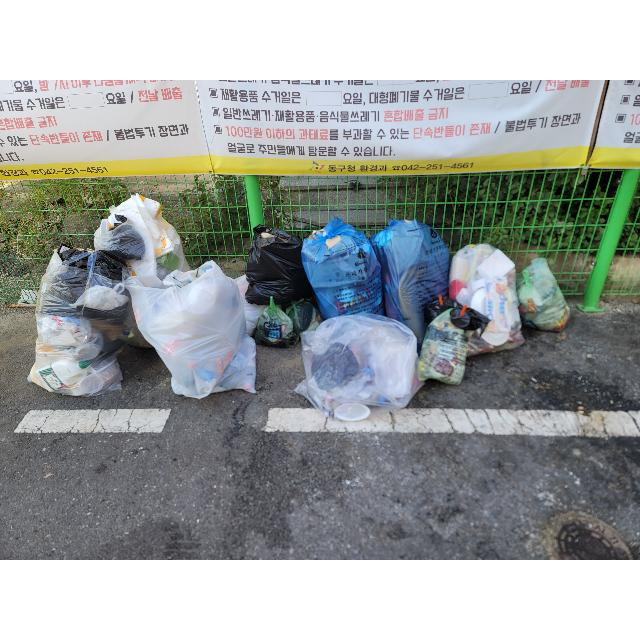general_trashbag: (418, 310, 469, 385), (518, 258, 570, 331), (255, 298, 299, 348), (286, 299, 322, 335)
other_trashbag: (126, 261, 256, 399), (28, 249, 132, 396), (295, 314, 424, 420), (370, 220, 449, 349), (301, 216, 384, 319), (449, 244, 524, 356), (94, 194, 190, 280), (245, 225, 314, 305)
